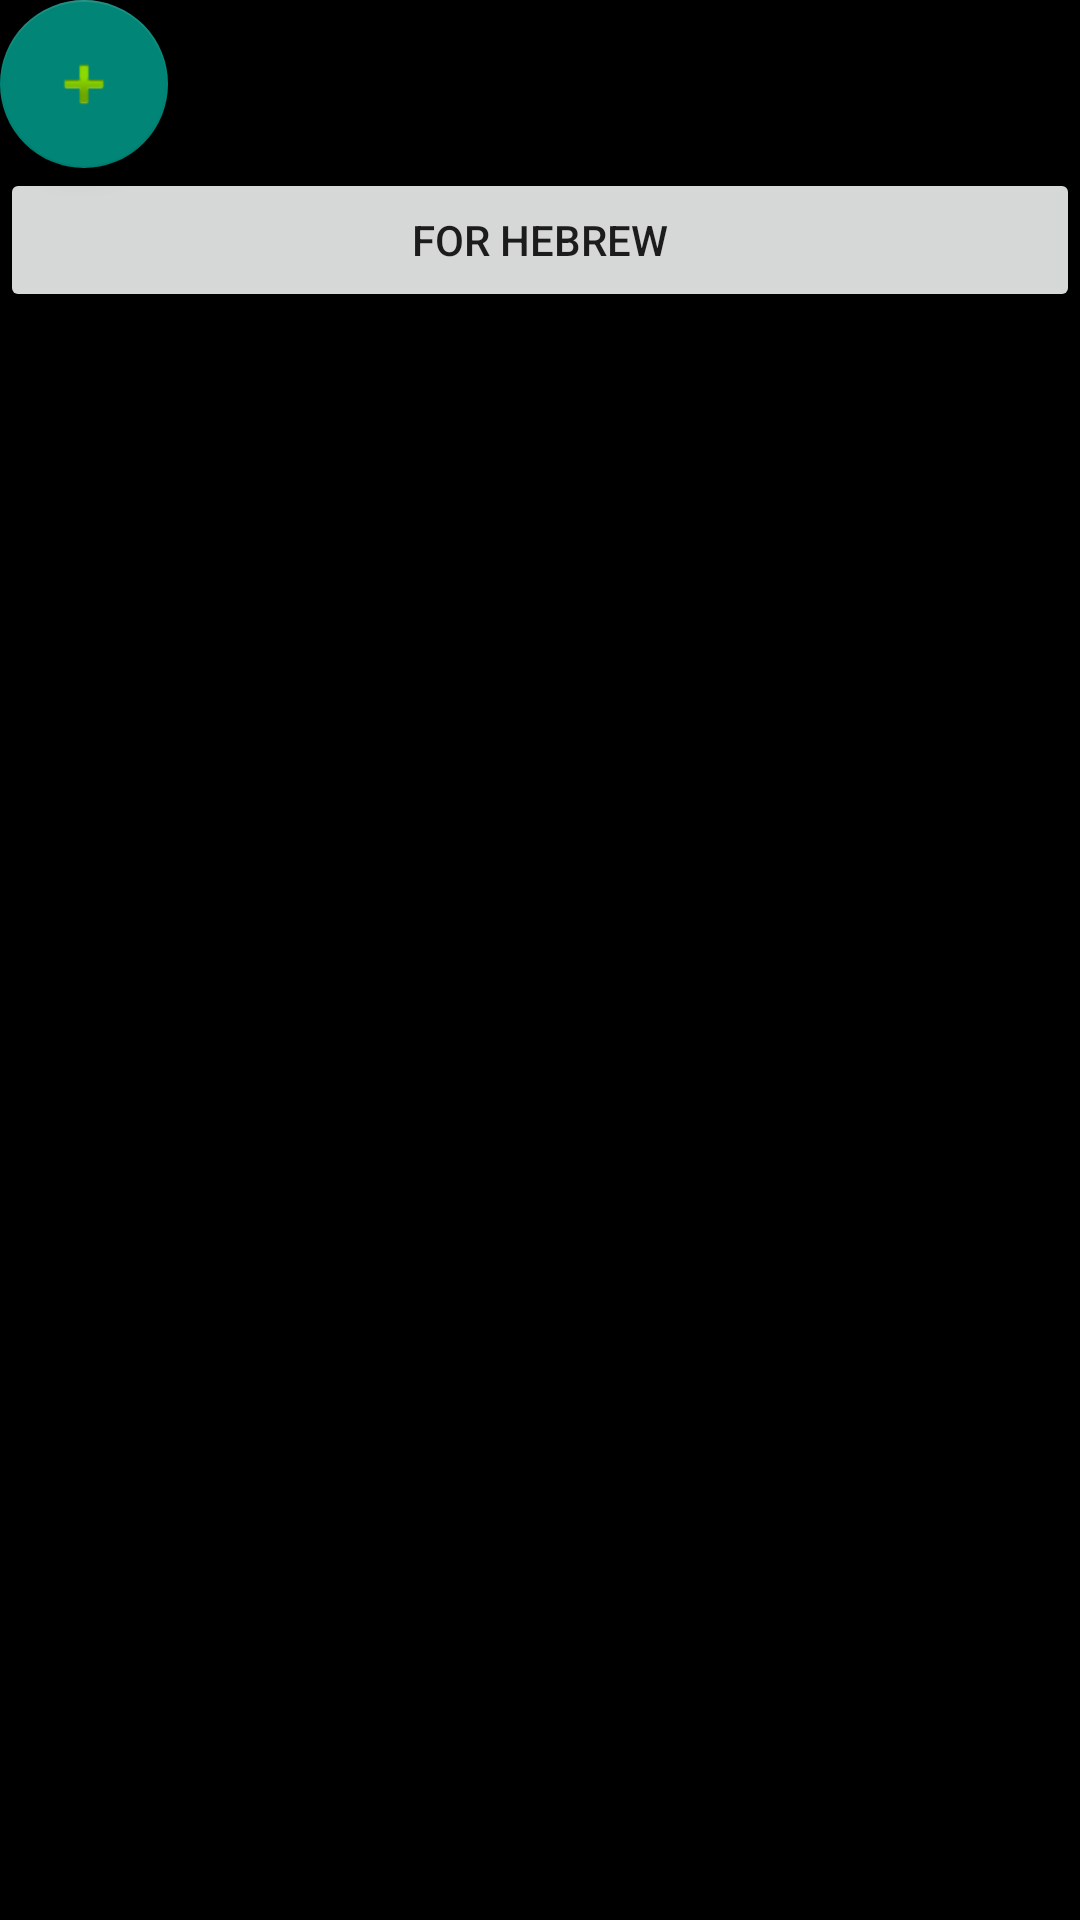

Named icons in this screenshot (1080 x 1920) and their centers, [x,y]:
add: [84,84]
